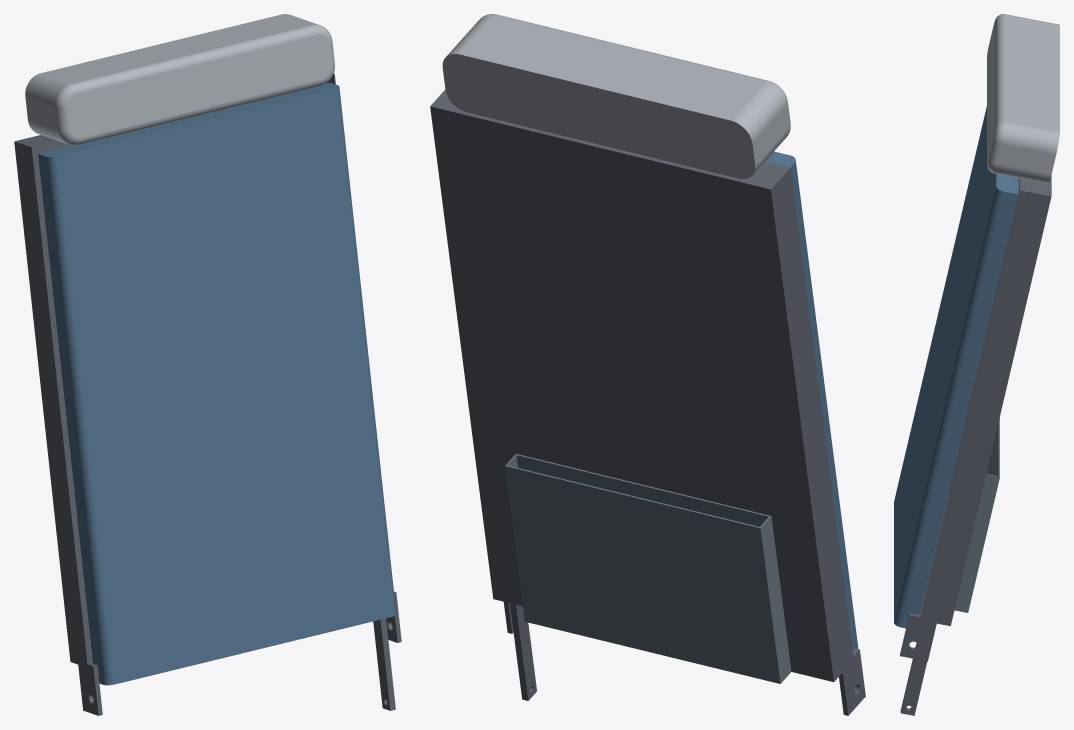
File: step_04.glb
3 views of the same model, side by side, from view 1: azimuth 30°, elevation 25°; view 2: azimuth 150°, elevation 25°; view 3: azimuth 270°, elevation 25° (orthographic). The views are drawn at different scales.
Parts seen in each view (by area): view 1: part__back cushion cover, part__head rest, part__back shell; view 2: part__back shell, part__literature pocket, part__head rest, part__back cushion cover; view 3: part__back cushion cover, part__back shell, part__head rest, part__literature pocket.
Part boxes in pixels (bbox=[...]): part__back cushion cover: bbox=[38, 82, 396, 685]; part__head rest: bbox=[25, 14, 334, 145]; part__back shell: bbox=[14, 73, 401, 715]; part__back shell: bbox=[430, 89, 865, 715]; part__literature pocket: bbox=[505, 454, 791, 683]; part__head rest: bbox=[442, 14, 790, 178]; part__back cushion cover: bbox=[765, 151, 858, 650]; part__back cushion cover: bbox=[894, 106, 1018, 628]; part__back shell: bbox=[900, 175, 1051, 715]; part__head rest: bbox=[987, 14, 1059, 183]; part__literature pocket: bbox=[954, 417, 999, 612].
Bounding box in the file's own units: 440 × 903 × 233.
